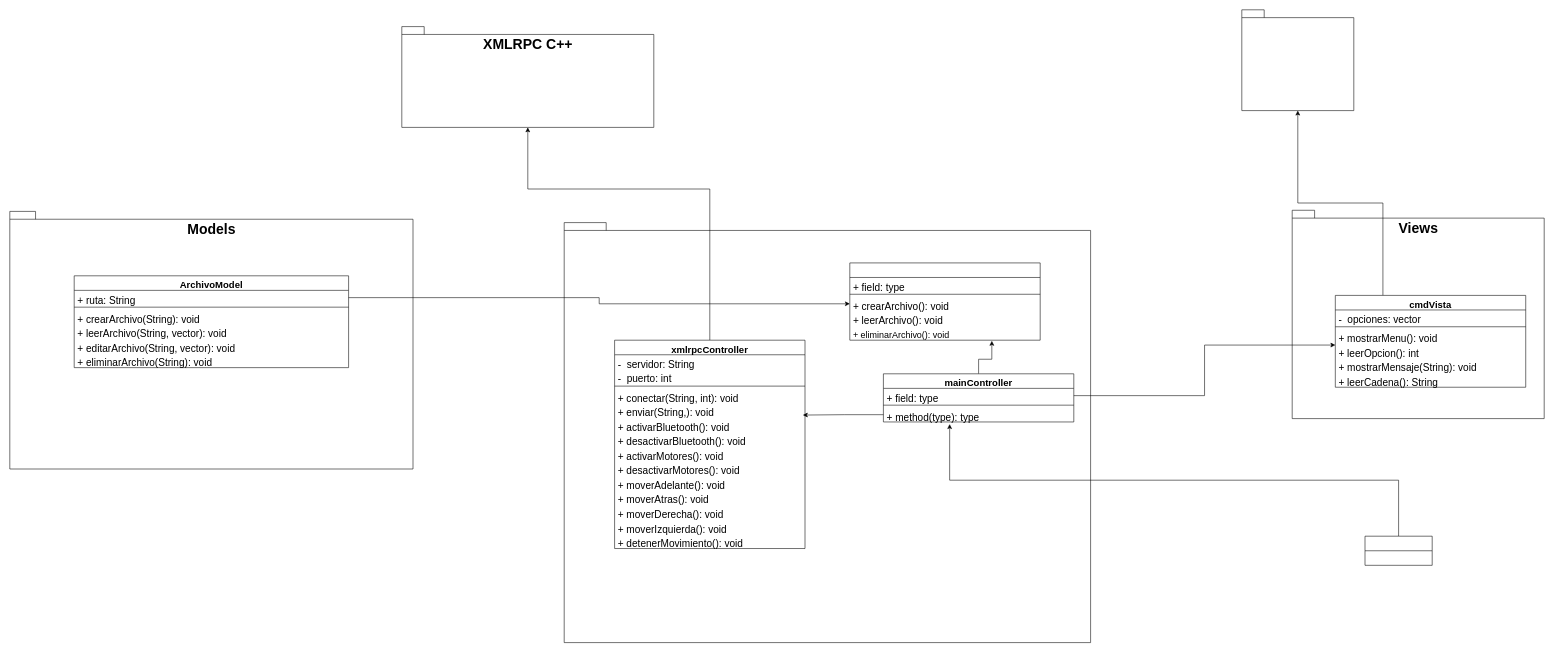
The diagram is 1554 pixels wide and 652 high, and some of its shapes have lost their labels. Here are the shapes that lost their labels. From the top down, the box of each, then its label:
(1241, 9, 1354, 111): vector string iostream
(849, 262, 1040, 340): archivoController
(564, 222, 1091, 643): Controllers
(1364, 536, 1432, 565): main
